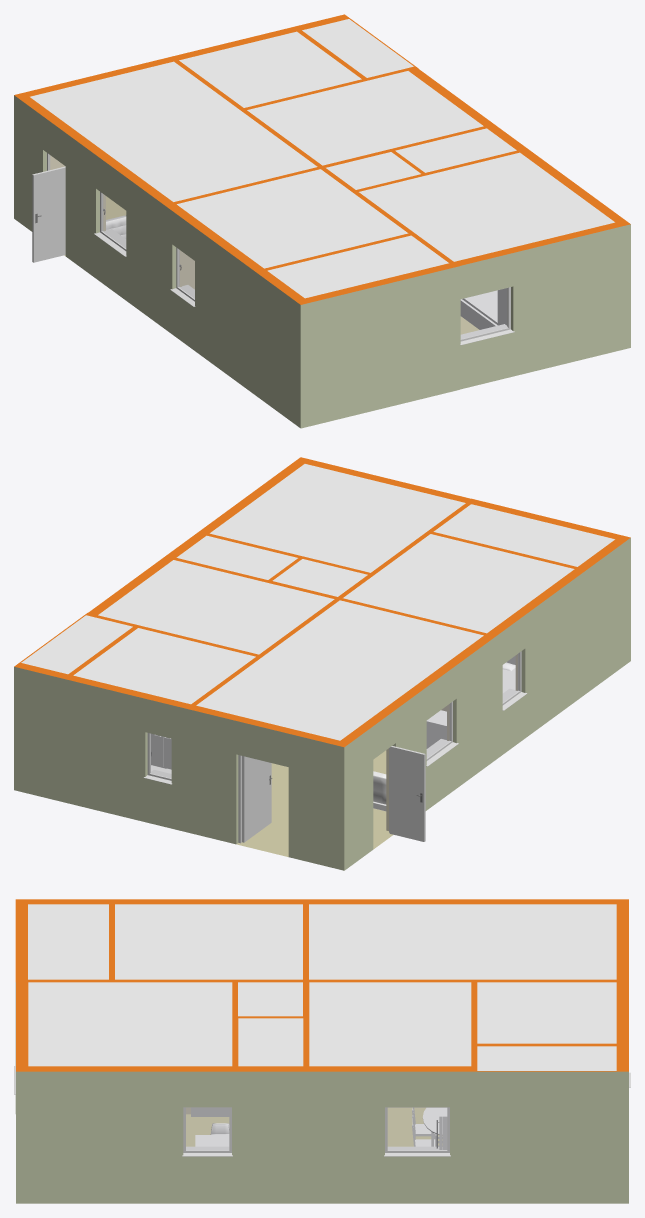
The model's file is 2 BHK - East Fasing 30X45.obj.
The picture shows the model from 3 angles, top to bottom: view 1: azimuth 30°, elevation 25°; view 2: azimuth 150°, elevation 25°; view 3: azimuth 270°, elevation 25°; orthographic projection. The views are drawn at different scales.
Parts seen in each view (by area): view 1: ceiling room2, wall17 exterior, wall53 exterior, ceiling room50, wall6 exterior, levelSection0 level1, ceiling room8, ceiling room32, wall12 exterior, ceiling room20, wall18 exterior, ceiling room14 (+8 smaller); view 2: ceiling room2, wall3 exterior, ceiling room50, wall21 exterior, levelSection0 level1, wall6 exterior, ceiling room8, ceiling room32, wall12 exterior, ceiling room20, wall27 exterior, wall18 exterior (+12 smaller); view 3: wall52 exterior, ceiling room2, wall28 exterior, wall34 exterior, ceiling room50, levelSection0 level1, ceiling room8, ceiling room32, wall40 exterior, ceiling room20, ceiling room14, ceiling room26 (+8 smaller).
Part boxes in pixels (x1,y1,x2,y2): ceiling room2: (30, 61, 317, 201); wall17 exterior: (300, 266, 460, 428); wall53 exterior: (460, 224, 630, 389); ceiling room50: (359, 152, 614, 261); wall6 exterior: (14, 95, 165, 329); levelSection0 level1: (14, 14, 630, 304); ceiling room8: (177, 169, 408, 268); ceiling room32: (247, 71, 483, 165); wall12 exterior: (165, 206, 256, 395); ceiling room20: (179, 31, 361, 107); wall18 exterior: (256, 272, 300, 427); ceiling room14: (267, 235, 448, 298); ceiling room2: (196, 600, 483, 740); wall3 exterior: (185, 708, 344, 870); ceiling room50: (210, 464, 465, 572); wall21 exterior: (62, 678, 184, 831); levelSection0 level1: (14, 457, 630, 747); wall6 exterior: (344, 636, 495, 870); ceiling room8: (343, 534, 574, 633); ceiling room32: (98, 560, 334, 654); wall12 exterior: (496, 570, 586, 759); ceiling room20: (73, 628, 255, 704); wall27 exterior: (14, 666, 62, 801); wall18 exterior: (586, 538, 630, 692); wall52 exterior: (16, 1071, 231, 1203); ceiling room2: (309, 904, 616, 979); wall28 exterior: (471, 1071, 628, 1203); wall34 exterior: (303, 1071, 470, 1203); ceiling room50: (28, 982, 232, 1066); levelSection0 level1: (15, 899, 628, 1071); ceiling room8: (115, 904, 302, 979); ceiling room32: (309, 982, 471, 1066); wall40 exterior: (232, 1071, 302, 1203); ceiling room20: (477, 982, 616, 1043); ceiling room14: (28, 904, 108, 979); ceiling room26: (477, 1046, 616, 1070).
Size of the model in its own units: 8.43 by 2.74 by 11.61.
